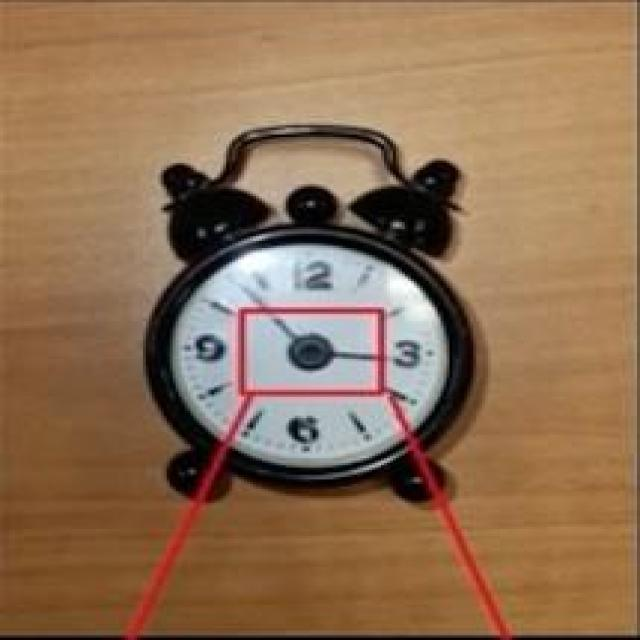hidden camera: (299, 343, 325, 364)
